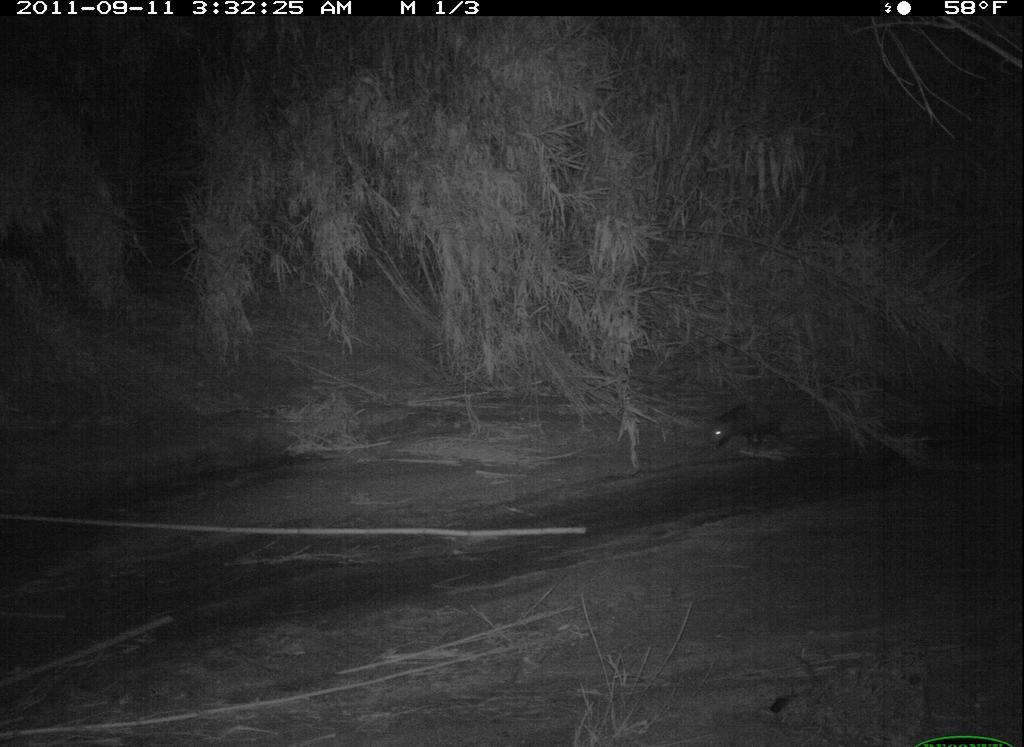opossum: (690, 381, 813, 461)
